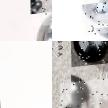ironball: (59, 78, 107, 107), (70, 41, 107, 67), (83, 0, 107, 36), (36, 13, 51, 41), (30, 0, 51, 13)
